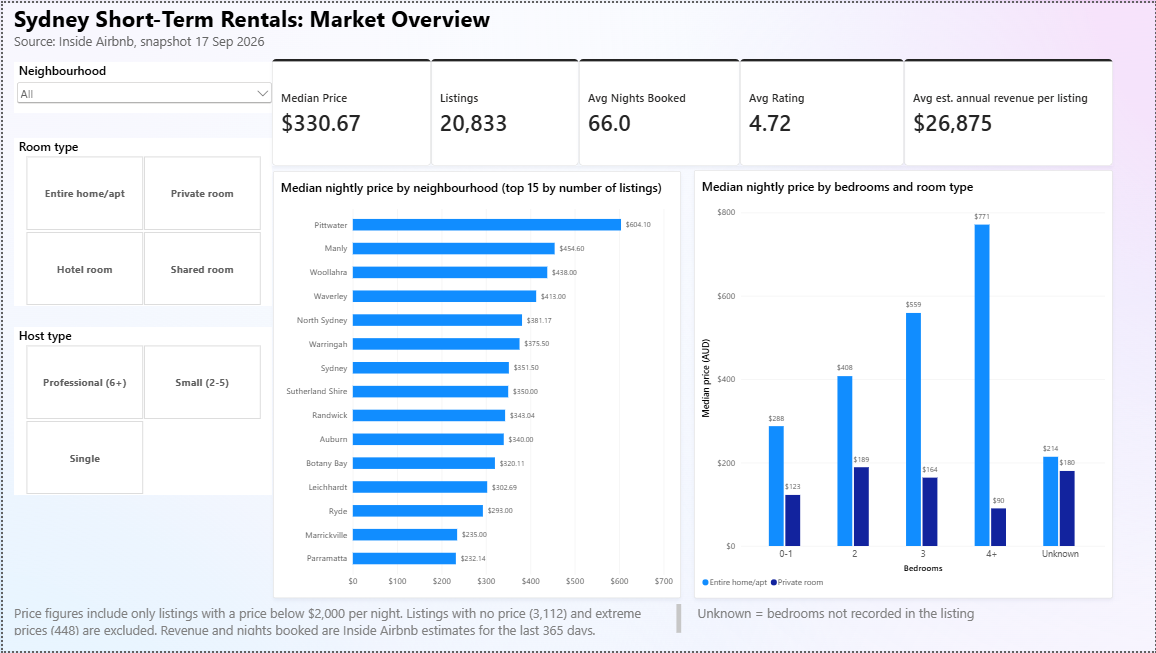

The page's visual inventory and layout, read from the dashboard file:
{"tool":"powerbi","page":{"name":"Market overview","canvas":[1920,1080],"ordinal":0},"visuals":[{"type":"textbox","box":[18.3,0,1050,78.3],"z":0},{"type":"slicer","title":"Neighbourhood","fields":{"Values":["Neighbourhood.neighbourhood"]},"box":[18.3,98.3,435,85],"z":1000},{"type":"slicer","fields":{"Values":["RoomType.room_type"]},"box":[18.3,225,430,280],"z":2000},{"type":"slicer","fields":{"Values":["HostType.host_type"]},"box":[18.3,540,430,280],"z":3000},{"type":"cardVisual","fields":{"Data":["_Measures.Listings"]},"box":[713.3,93.3,246.7,178.3],"z":4000},{"type":"cardVisual","fields":{"Data":["_Measures.Median Price"]},"box":[448.3,93.3,265,178.3],"z":5000},{"type":"cardVisual","fields":{"Data":["_Measures.Avg Est Revenue"]},"box":[1501.7,93.3,348.3,178.3],"z":6000},{"type":"cardVisual","fields":{"Data":["_Measures.Avg Nights Booked"]},"box":[960,93.3,268.3,178.3],"z":7000},{"type":"cardVisual","fields":{"Data":["_Measures.Avg Rating"]},"box":[1228.3,93.3,273.3,178.3],"z":8000},{"type":"clusteredBarChart","title":"Median nightly price by neighbourhood (top 15 by number of listings)","fields":{"Category":["Neighbourhood.neighbourhood"],"Y":["_Measures.Median Price"]},"box":[450,280,680,712],"z":9000},{"type":"textbox","box":[18,1002,1112,52],"z":10000},{"type":"clusteredColumnChart","title":"Median nightly price by bedrooms and room type","fields":{"Category":["Listing.bedroom_group"],"Series":["RoomType.room_type"],"Y":["_Measures.Median Price"]},"box":[1152,278,698,714],"z":11000},{"type":"textbox","box":[1152,1002,698.3,51.7],"z":11001}]}

Visuals, with their boxes in screenshot pixels (x1, y1, x2, y2), scaled from the page's 1920x1080 canvas onto the 1156x653 screenshot:
textbox: {"x1": 11, "y1": 0, "x2": 643, "y2": 47}
"Neighbourhood" slicer: {"x1": 11, "y1": 59, "x2": 273, "y2": 111}
slicer - RoomType.room_type: {"x1": 11, "y1": 136, "x2": 270, "y2": 305}
slicer - HostType.host_type: {"x1": 11, "y1": 326, "x2": 270, "y2": 496}
cardVisual - _Measures.Listings: {"x1": 429, "y1": 56, "x2": 578, "y2": 164}
cardVisual - _Measures.Median Price: {"x1": 270, "y1": 56, "x2": 429, "y2": 164}
cardVisual - _Measures.Avg Est Revenue: {"x1": 904, "y1": 56, "x2": 1114, "y2": 164}
cardVisual - _Measures.Avg Nights Booked: {"x1": 578, "y1": 56, "x2": 740, "y2": 164}
cardVisual - _Measures.Avg Rating: {"x1": 740, "y1": 56, "x2": 904, "y2": 164}
"Median nightly price by neighbourhood (top 15 by number of listings)" clusteredBarChart: {"x1": 271, "y1": 169, "x2": 680, "y2": 600}
textbox: {"x1": 11, "y1": 606, "x2": 680, "y2": 637}
"Median nightly price by bedrooms and room type" clusteredColumnChart: {"x1": 694, "y1": 168, "x2": 1114, "y2": 600}
textbox: {"x1": 694, "y1": 606, "x2": 1114, "y2": 637}
